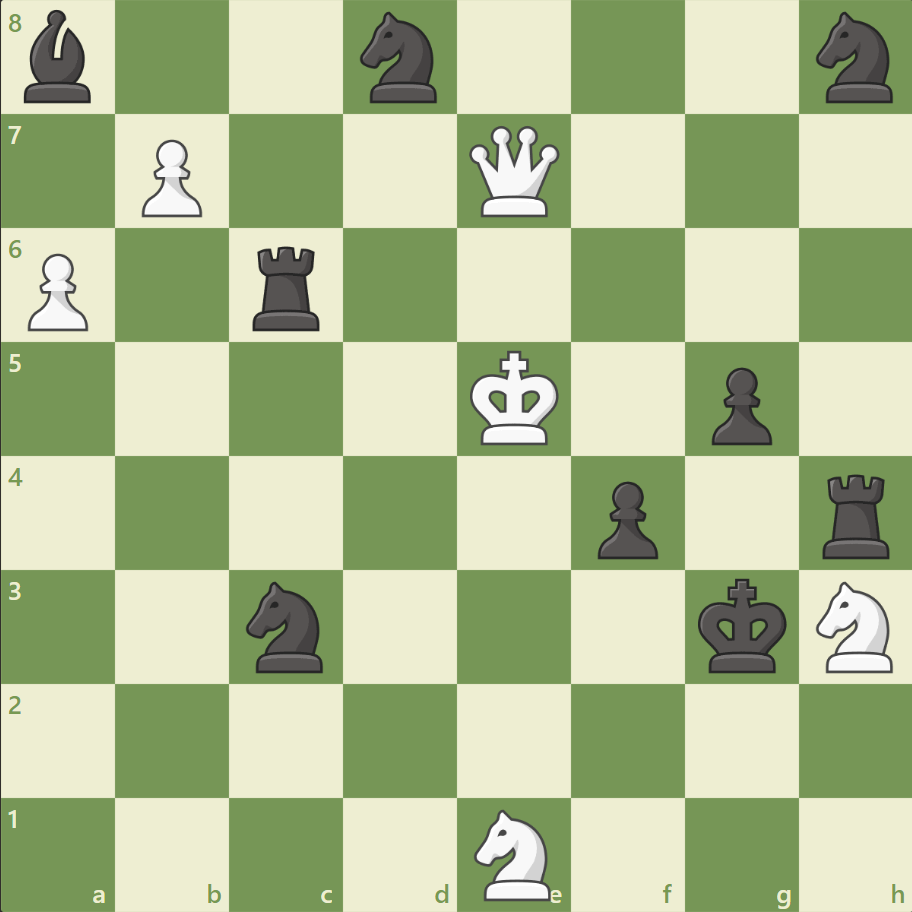K: (465, 344, 565, 452)
N: (806, 575, 903, 677), (465, 802, 562, 904)
P: (133, 132, 208, 223), (20, 246, 95, 337)
Q: (464, 122, 563, 222)
b: (17, 6, 101, 109)
k: (692, 571, 792, 679)
n: (351, 7, 449, 110), (806, 7, 903, 110), (238, 575, 335, 677)
p: (701, 359, 776, 450), (588, 473, 662, 564)
r: (246, 239, 329, 336), (814, 466, 897, 563)
